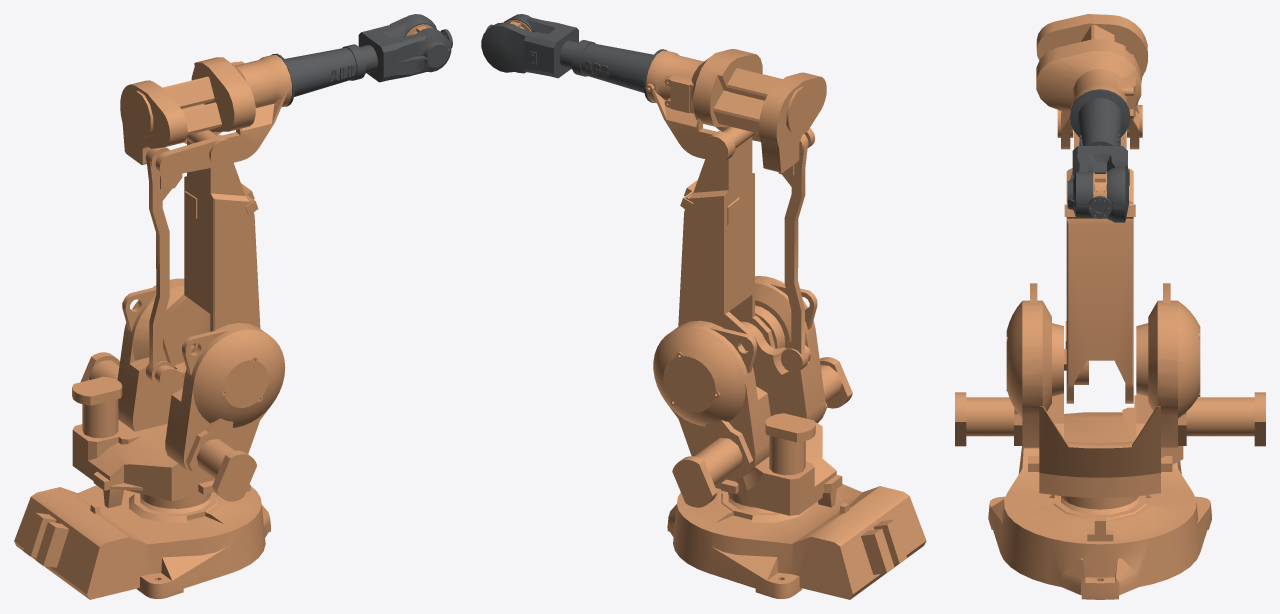
Rendered from abb-irb2400.glb.
3 renders of one model, left to right at view 1: azimuth 30°, elevation 25°; view 2: azimuth 150°, elevation 25°; view 3: azimuth 270°, elevation 25°, orthographic. The views are drawn at different scales.
Visible parts, largest first — view 1: IRB2400_16_m2000_rev4_01-2, IRB2400_16_m2000_rev4_01-1, IRB2400_16_m2000_rev4_01-6, IRB2400_16_m2000_rev4_01-4, IRB2400_16_m2000_rev4_01-9, IRB2400_16_m2000_rev4_01-5, IRB2400_16_m2000_rev4_01-3; view 2: IRB2400_16_m2000_rev4_01-2, IRB2400_16_m2000_rev4_01-1, IRB2400_16_m2000_rev4_01-6, IRB2400_16_m2000_rev4_01-4, IRB2400_16_m2000_rev4_01-9, IRB2400_16_m2000_rev4_01-5, IRB2400_16_m2000_rev4_01-3; view 3: IRB2400_16_m2000_rev4_01-2, IRB2400_16_m2000_rev4_01-1, IRB2400_16_m2000_rev4_01-4, IRB2400_16_m2000_rev4_01-6, IRB2400_16_m2000_rev4_01-9, IRB2400_16_m2000_rev4_01-8.
Part boxes in pixels (<box>): IRB2400_16_m2000_rev4_01-2: <box>72,278,285,508</box>; IRB2400_16_m2000_rev4_01-1: <box>14,484,270,599</box>; IRB2400_16_m2000_rev4_01-6: <box>120,55,291,175</box>; IRB2400_16_m2000_rev4_01-4: <box>163,130,260,367</box>; IRB2400_16_m2000_rev4_01-9: <box>271,14,451,106</box>; IRB2400_16_m2000_rev4_01-5: <box>145,147,182,385</box>; IRB2400_16_m2000_rev4_01-3: <box>155,343,197,391</box>; IRB2400_16_m2000_rev4_01-2: <box>653,276,852,515</box>; IRB2400_16_m2000_rev4_01-1: <box>667,484,926,599</box>; IRB2400_16_m2000_rev4_01-6: <box>645,49,826,172</box>; IRB2400_16_m2000_rev4_01-4: <box>678,126,775,351</box>; IRB2400_16_m2000_rev4_01-9: <box>481,14,667,102</box>; IRB2400_16_m2000_rev4_01-5: <box>778,134,808,372</box>; IRB2400_16_m2000_rev4_01-3: <box>741,321,810,378</box>; IRB2400_16_m2000_rev4_01-2: <box>955,283,1265,509</box>; IRB2400_16_m2000_rev4_01-1: <box>988,446,1211,599</box>; IRB2400_16_m2000_rev4_01-4: <box>1064,131,1135,403</box>; IRB2400_16_m2000_rev4_01-6: <box>1036,14,1147,149</box>; IRB2400_16_m2000_rev4_01-9: <box>1067,89,1130,222</box>; IRB2400_16_m2000_rev4_01-8: <box>1088,196,1111,218</box>.
Bounding box in the file's own units: 1.41 × 1.57 × 0.833.
